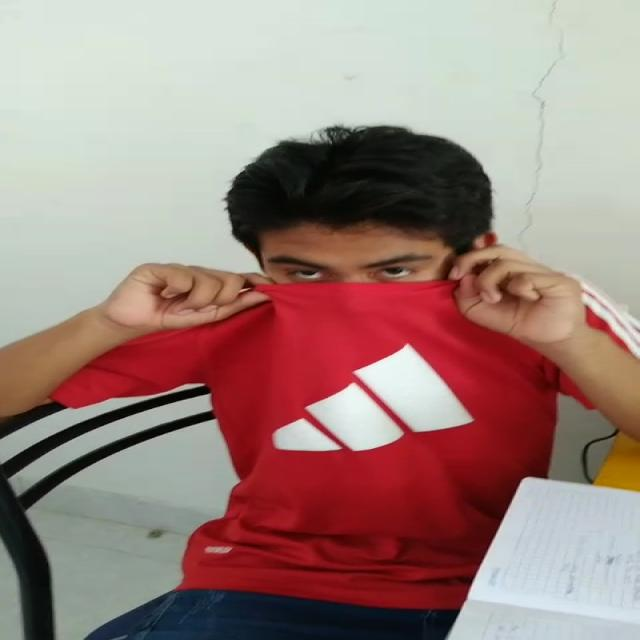8_ropa_rostro: (111, 266, 591, 372)
